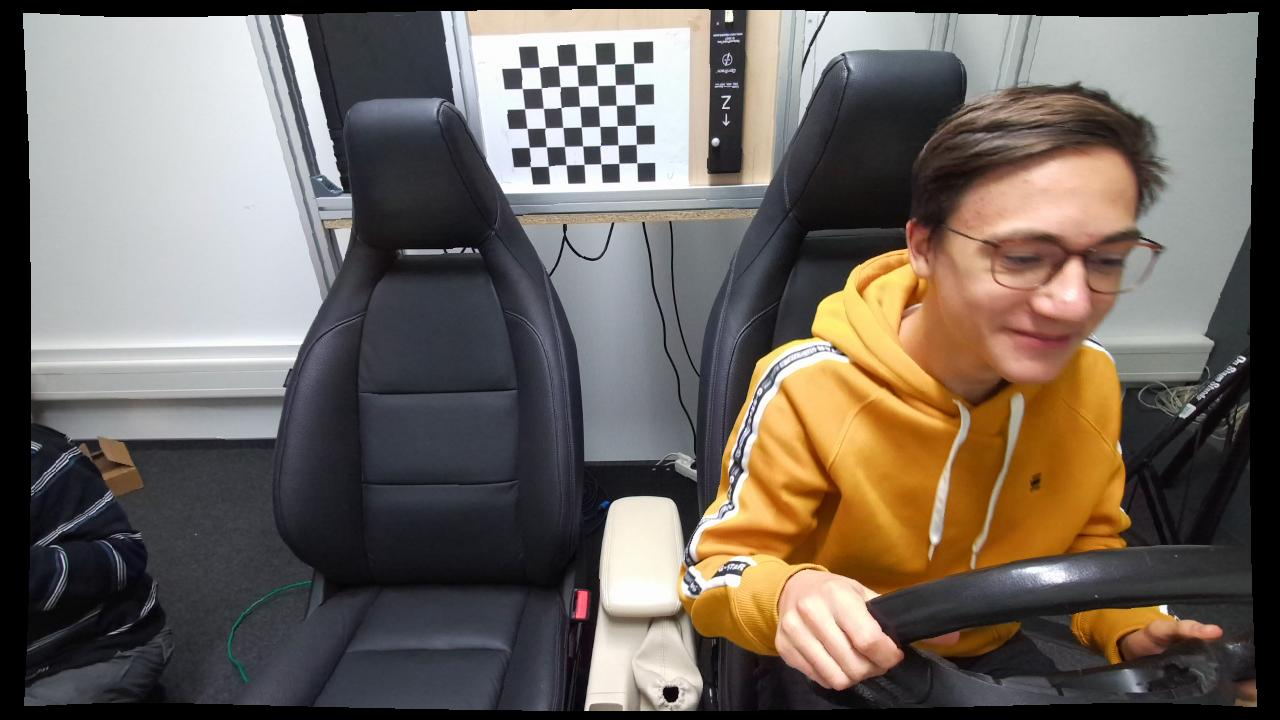Distracted: (676, 55, 1186, 712)
